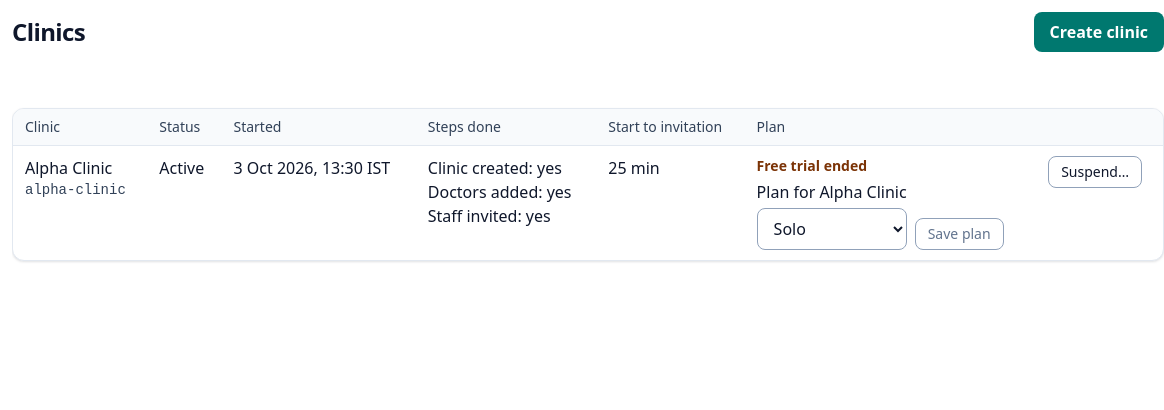
ClinicList plans (M6d-P7, FR-SUB-01) › R7, R8: shows each clinic's plan and an ended trial, and saves a new plan
Expected: the text "Free trial ended" is shown, [757, 156, 867, 175]
Expected: the button named "Save plan for Alpha Clinic" is disabled, [915, 218, 1004, 250]
Select "Clinic" in the dropdown labelled "Plan for Alpha Clinic" at {"x": 832, "y": 229}, box [757, 208, 907, 250]
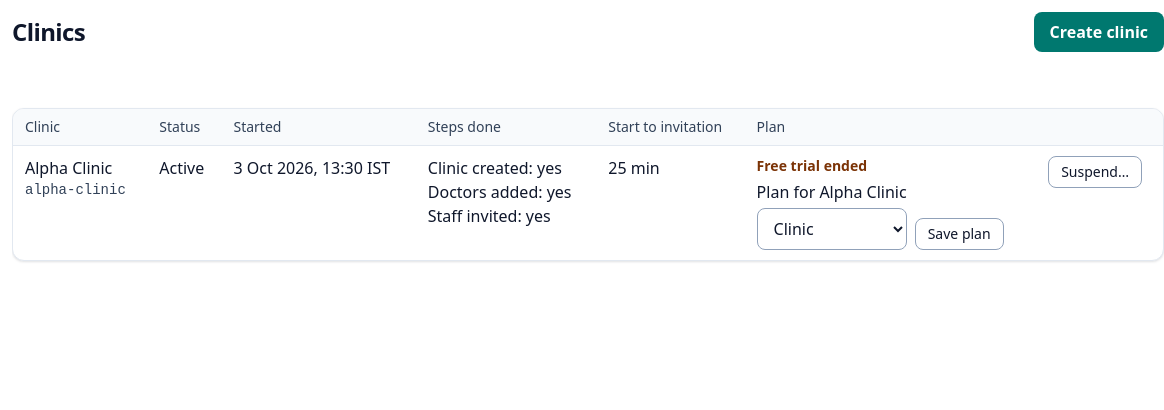
Click the button named "Save plan for Alpha Clinic" at {"x": 959, "y": 234}, box [915, 218, 1004, 250]
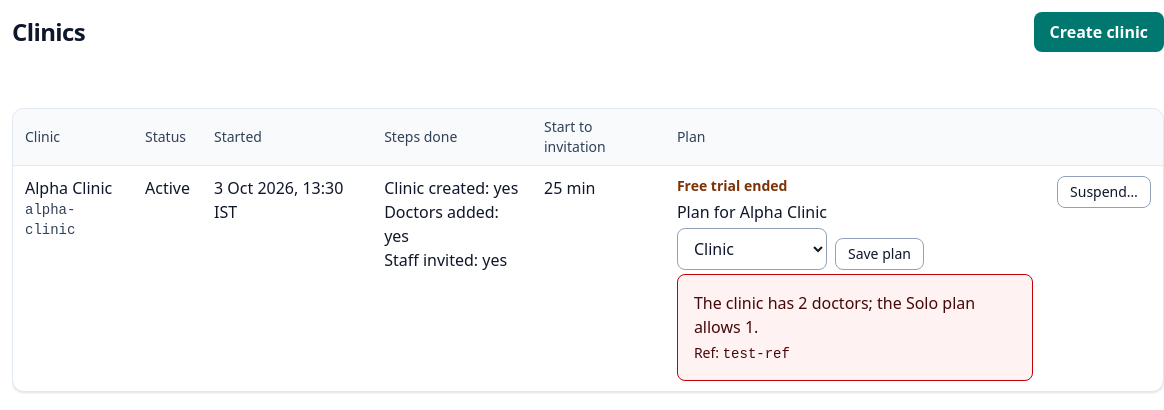
Expected: the text "The clinic has 2 doctors; the Solo plan allows 1." is shown, [694, 291, 1016, 339]
Select "Clinic Plus" in the dropdown labelled "Plan for Alpha Clinic" at {"x": 752, "y": 249}, box [677, 228, 827, 270]
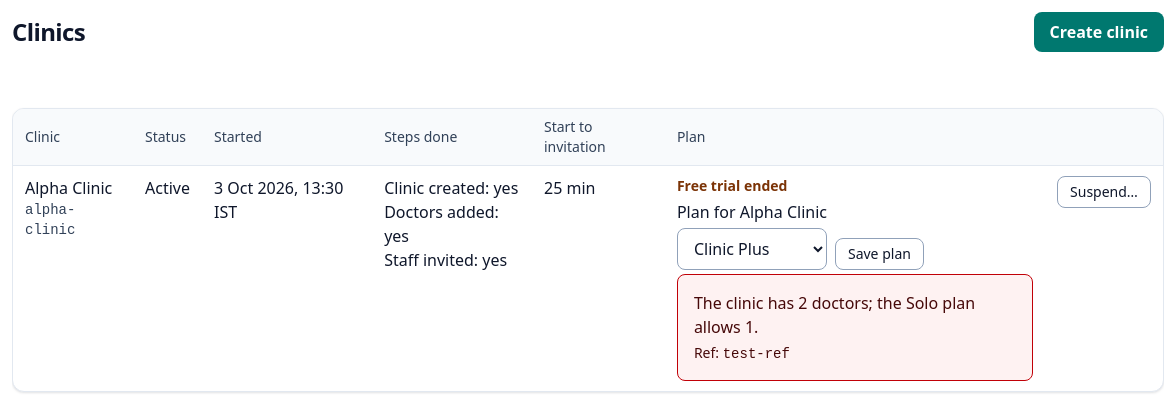
Click the button named "Save plan for Alpha Clinic" at {"x": 879, "y": 254}, box [835, 238, 924, 270]
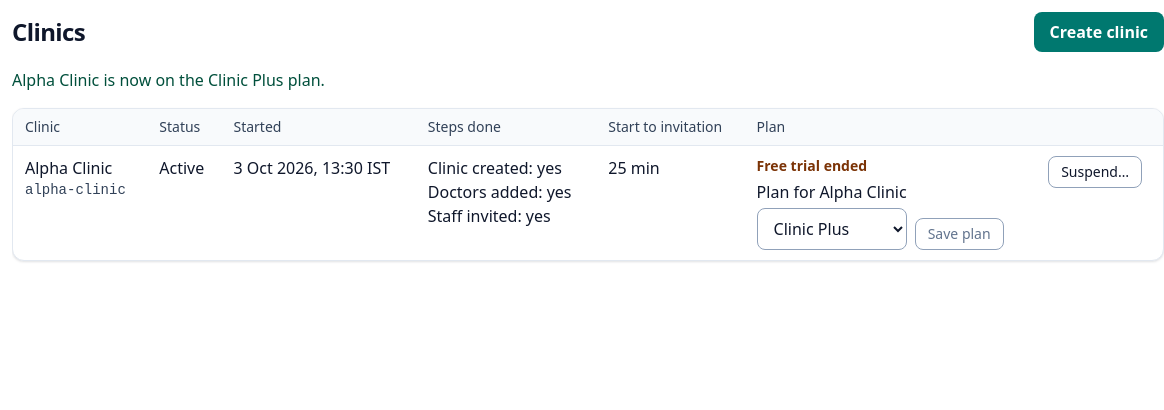
Expected: the text "Alpha Clinic is now on the Clinic Plus plan." is shown, [12, 69, 325, 91]
